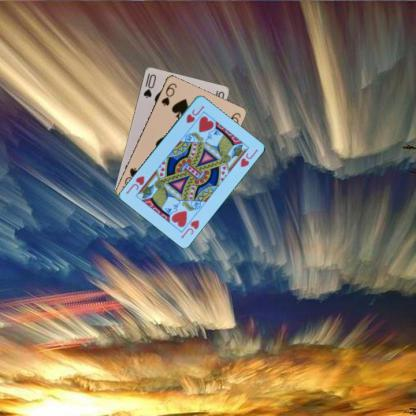10s: (140, 70, 158, 100)
6s: (158, 80, 178, 107)
Jh: (178, 217, 200, 239), (184, 103, 206, 124)
